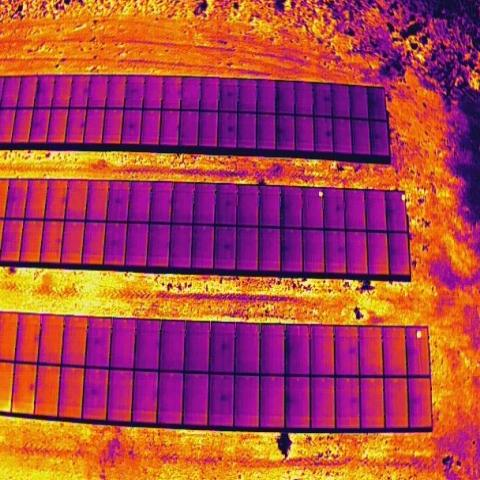fault: (414, 328, 424, 340), (316, 190, 324, 200)
